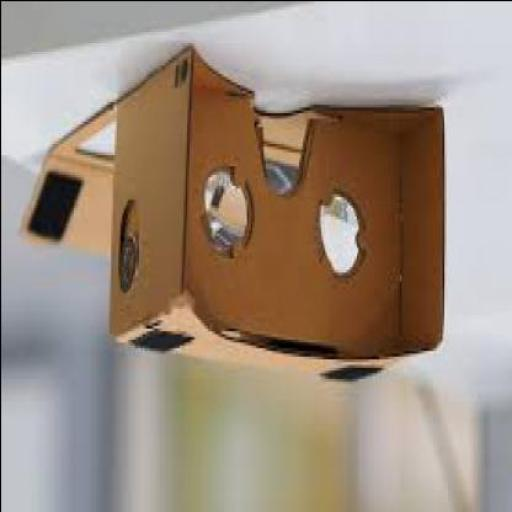cardboard: (108, 45, 443, 383), (18, 103, 428, 255)
